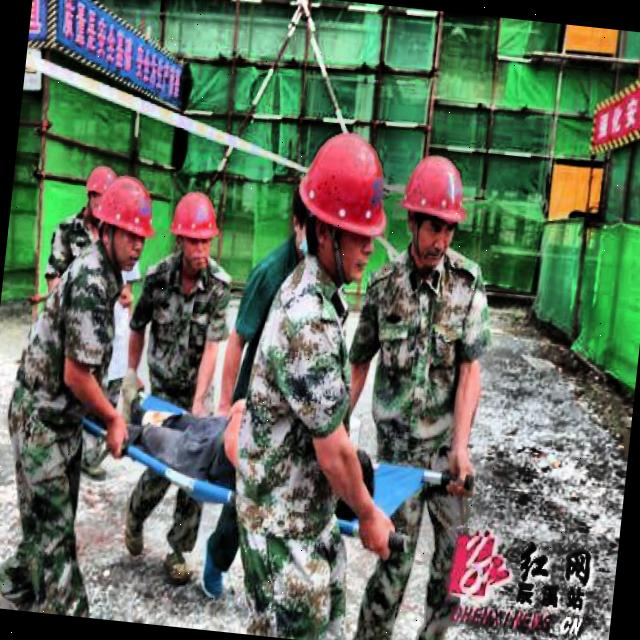helmet: (293, 127, 397, 282), (392, 148, 473, 272), (88, 168, 159, 271), (163, 186, 223, 276), (77, 158, 116, 228)
